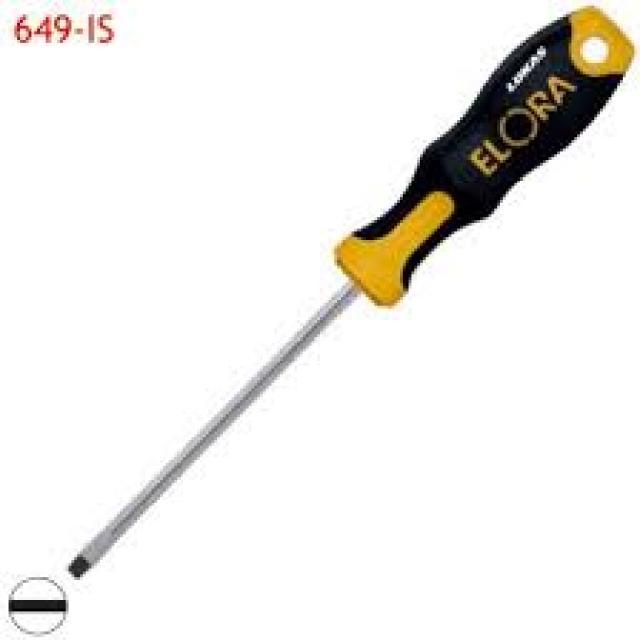screwdriver: (64, 8, 633, 583)
